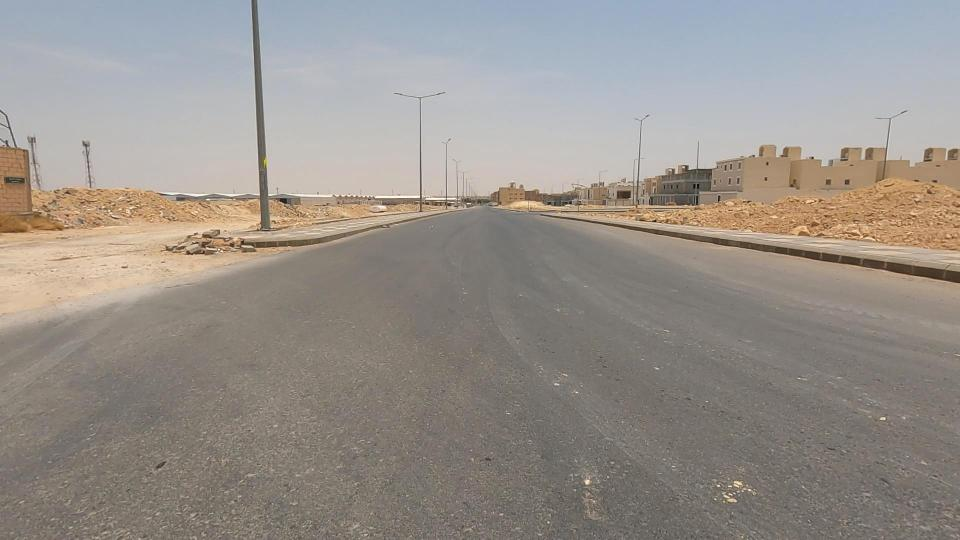GARBAGE: (158, 214, 278, 282)
